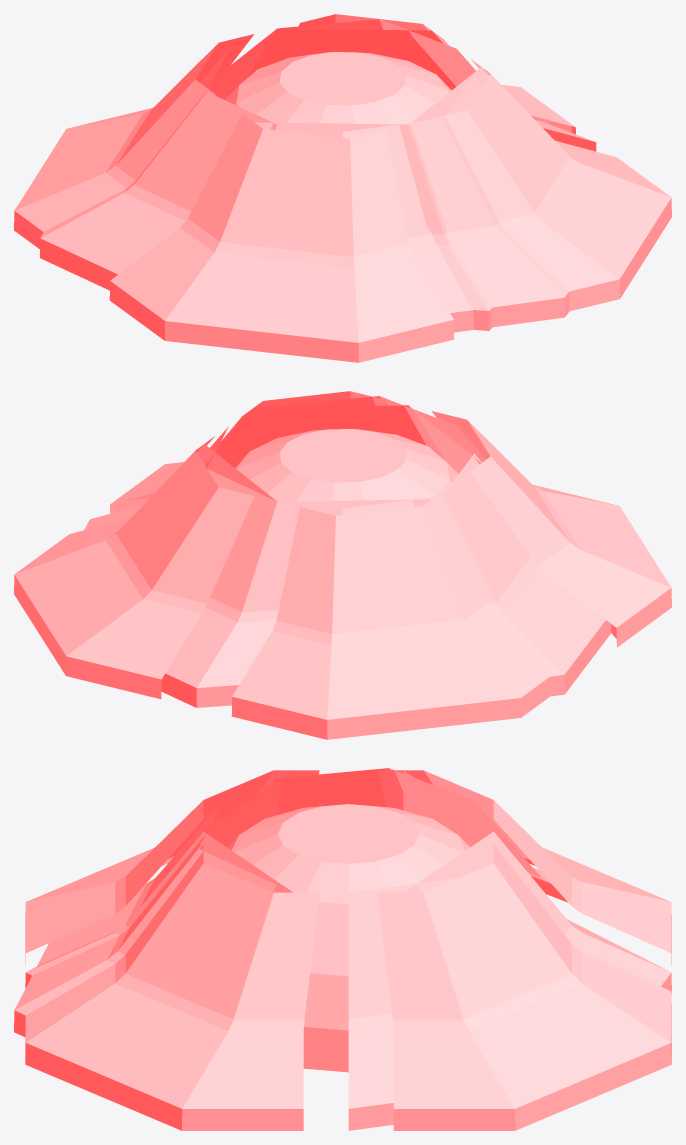
File: puzzle_lamp.fbx
3 views of the same model, one above another, from view 1: azimuth 30°, elevation 25°; view 2: azimuth 150°, elevation 25°; view 3: azimuth 270°, elevation 25° (orthographic). The views are drawn at different scales.
Visible parts, largest first — view 1: Cube, Cube.001, Cube.002; view 2: Cube, Cube.001, Cube.002; view 3: Cube, Cube.001, Cube.002.
Boxes of the visible parts, x1,y1,x2,y2 form: Cube: (14, 14, 671, 362); Cube.001: (40, 19, 596, 332); Cube.002: (205, 28, 571, 330); Cube: (14, 391, 671, 739); Cube.001: (84, 396, 611, 707); Cube.002: (114, 405, 616, 707); Cube: (25, 770, 671, 1130); Cube.001: (14, 768, 671, 1130); Cube.002: (25, 770, 666, 988).
Size of the model in its own units: 16.2 by 4.42 by 16.2.
